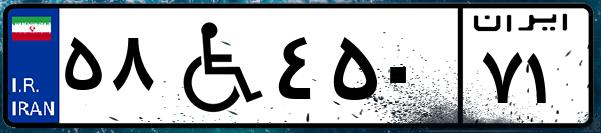0: (385, 28, 445, 110)
1: (525, 38, 570, 115)
4: (270, 28, 330, 110)
5: (330, 28, 385, 110), (57, 26, 110, 100)
7: (475, 38, 525, 113)
8: (110, 28, 158, 98)
ژ (معلولین و جانبازان): (158, 12, 270, 120)
